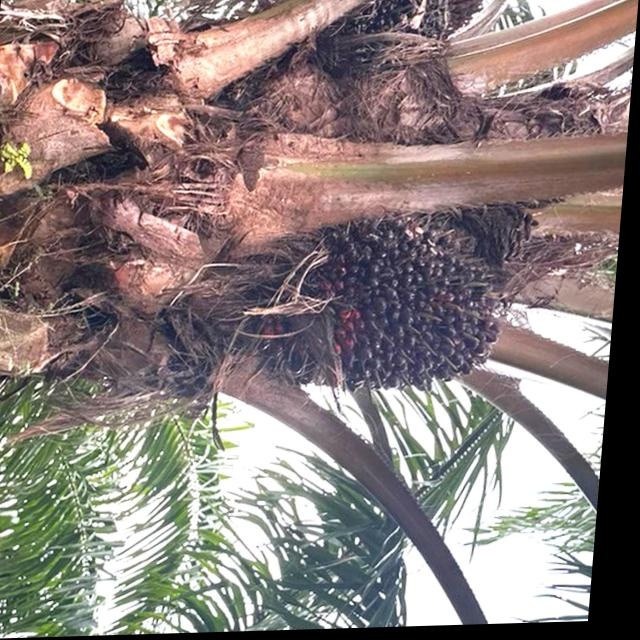ripe: (250, 194, 533, 427)
